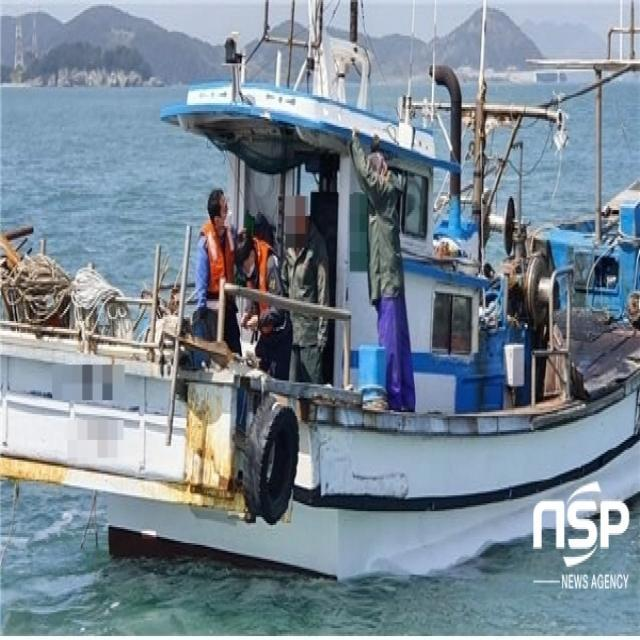Ship: (1, 1, 640, 588)
